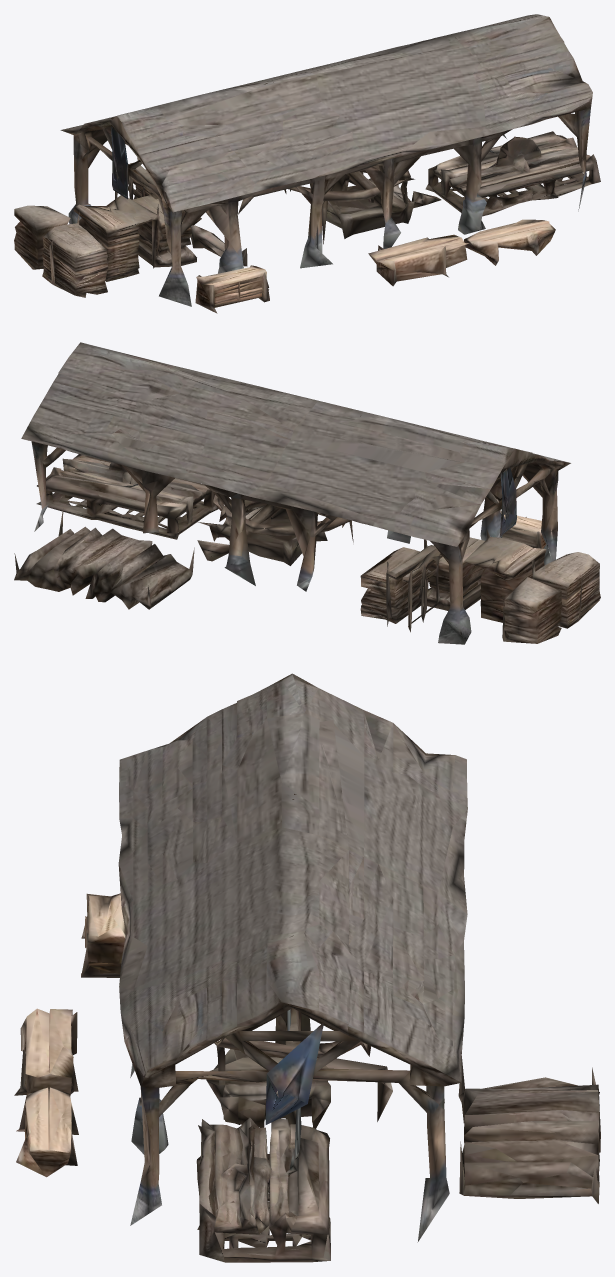
File: lumber_mill_2.glb
The picture shows the model from 3 angles, top to bottom: view 1: azimuth 30°, elevation 25°; view 2: azimuth 150°, elevation 25°; view 3: azimuth 270°, elevation 25°; orthographic projection. The views are drawn at different scales.
Visible parts, largest first — view 1: tripo_node_4382df72-011d-4521-8fb5-8051347d3e48; view 2: tripo_node_4382df72-011d-4521-8fb5-8051347d3e48; view 3: tripo_node_4382df72-011d-4521-8fb5-8051347d3e48.
Boxes of the visible parts, x1=… form: tripo_node_4382df72-011d-4521-8fb5-8051347d3e48: x1=14, y1=14, x2=600, y2=313; tripo_node_4382df72-011d-4521-8fb5-8051347d3e48: x1=14, y1=342, x2=600, y2=644; tripo_node_4382df72-011d-4521-8fb5-8051347d3e48: x1=14, y1=673, x2=600, y2=1262.
Size of the model in its own units: 0.9738 by 0.2832 by 0.6116.
1 material, 1 textured.
